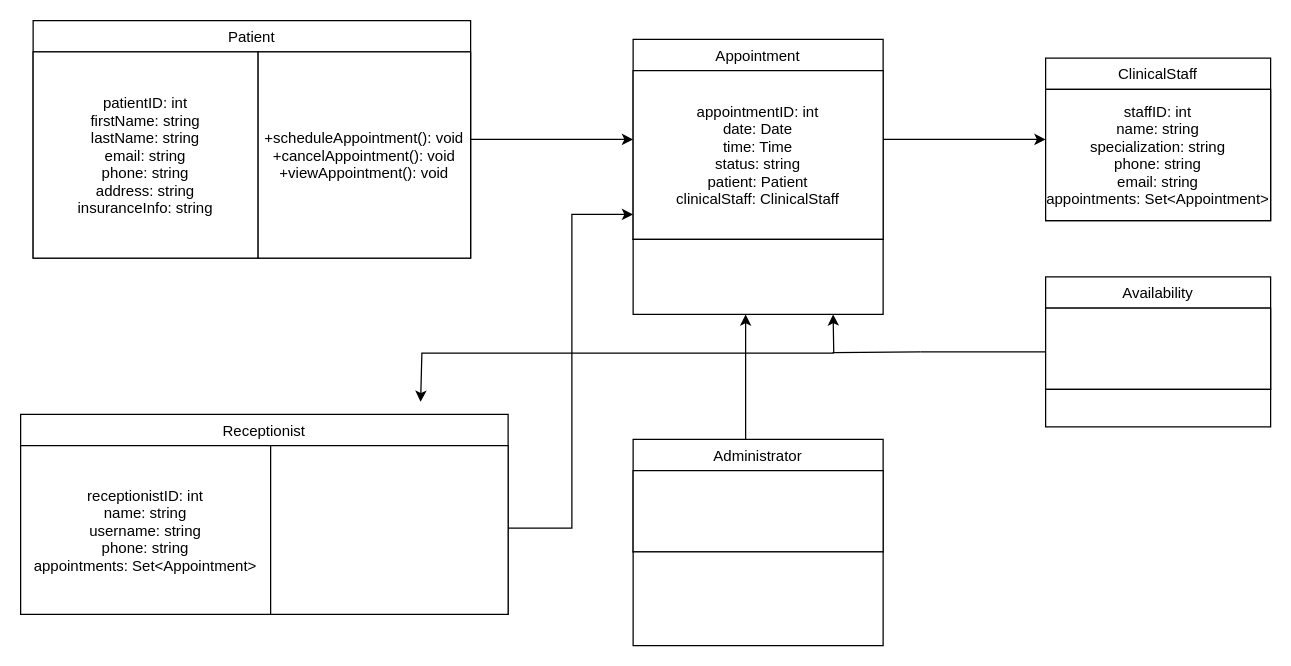
Some shapes in this 1291 by 666 pixel diagram are drawn without their labels. Here are the shapes that lost their labels. From the top down, the centre of each, then its label:
(757,276): +confirmAppointment(): void +reschedule(): void +cancel(): void
(1157,348): availabilityID: int date: Date time: Time staff: ClinicalStaff
(1157,407): +updateAvailability(): void
(388,529): +manageAppointment(): void
(757,510): adminID: int name: string username: string role: string
(757,598): +manageUsers(): void +updateSystemSettings(): void
